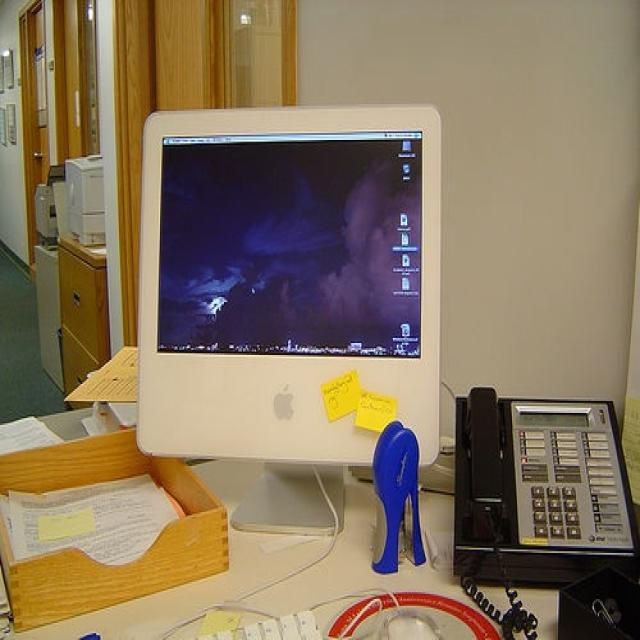tvmonitor: (136, 102, 448, 536)
